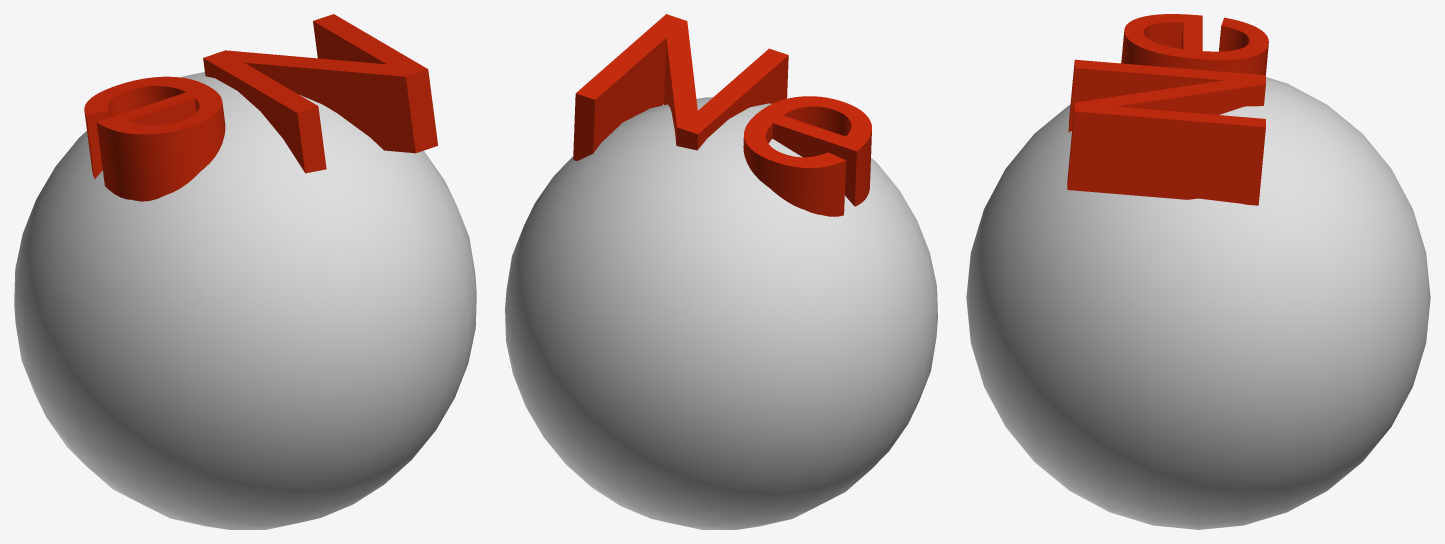
3 renders of one model, left to right at view 1: azimuth 30°, elevation 25°; view 2: azimuth 150°, elevation 25°; view 3: azimuth 270°, elevation 25°, orthographic. The views are drawn at different scales.
Parts seen in each view (by area): view 1: Ne; view 2: Ne; view 3: Ne.
Boxes of the visible parts, x1,y1,x2,y2 form: Ne: (14, 14, 476, 529); Ne: (505, 14, 937, 529); Ne: (966, 14, 1430, 529).
Size of the model in its own units: 38.67 by 41.93 by 38.75.
